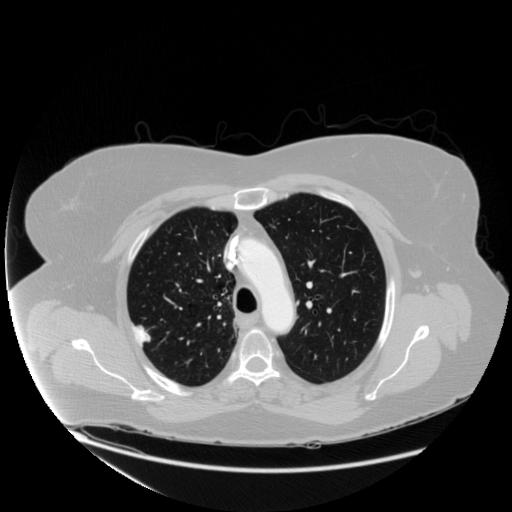nodule: (128, 322, 155, 349)
